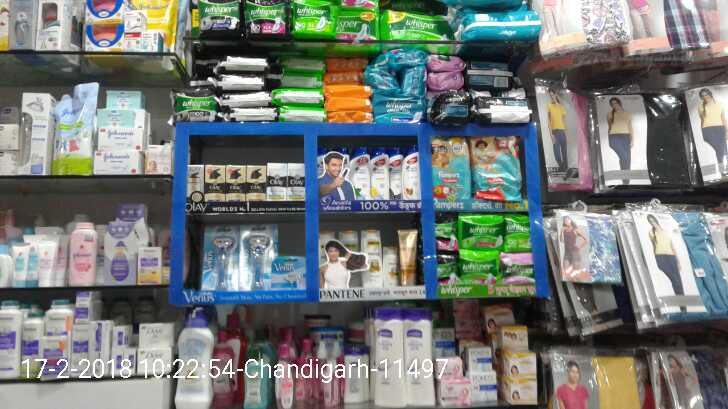venus: (205, 226, 240, 290), (240, 226, 272, 292), (271, 257, 305, 292)
